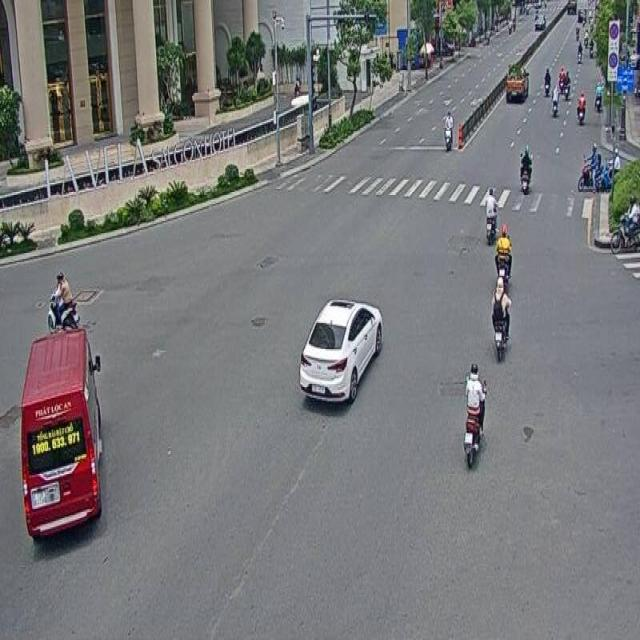car: (297, 296, 382, 410)
motorcycle: (462, 358, 487, 471), (45, 270, 79, 335), (490, 274, 511, 361), (492, 223, 513, 291), (483, 186, 498, 247), (518, 143, 533, 195)
truck: (19, 329, 104, 552)
